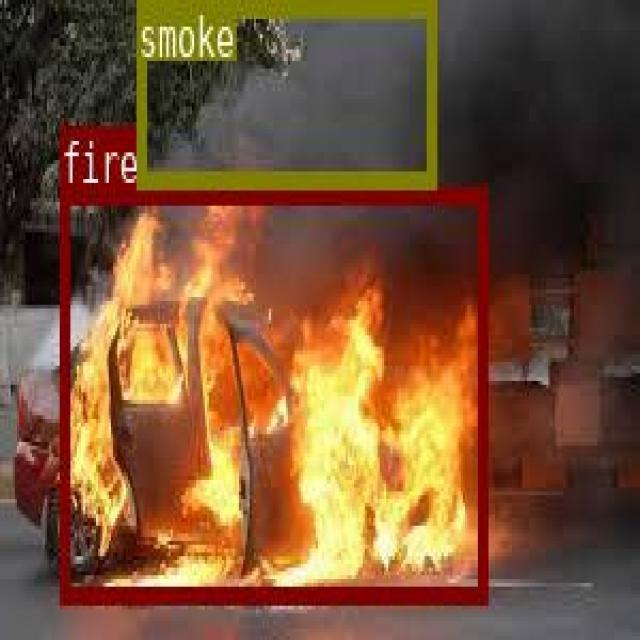fire: (58, 186, 486, 602)
smoke: (137, 0, 435, 183)
